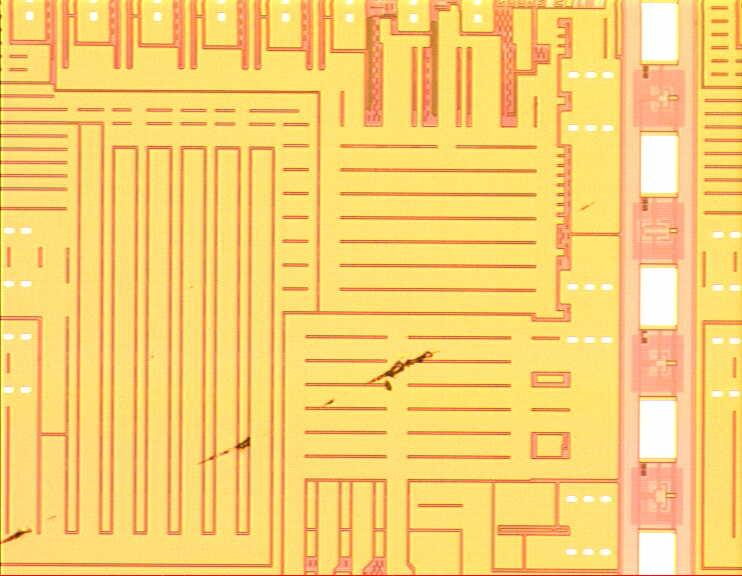SCRATCH: (1, 342, 447, 558)
